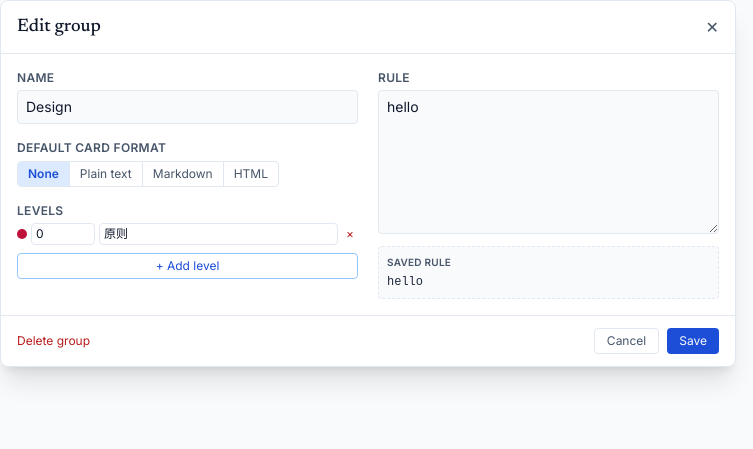
Scenario: GroupEditDialog › preview reflects the format choice
Check: the text with test id "rule-preview" reads "hello", box [387,275,423,289]
Click the button with test id "fmt-markdown" at (183, 174), box [143,162,224,186]
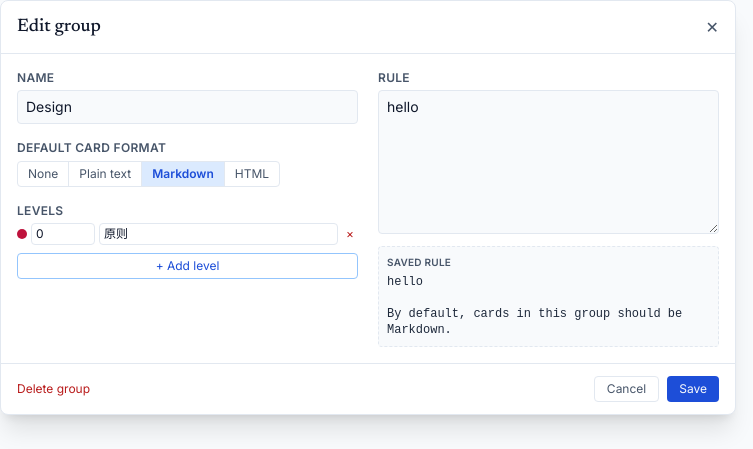
Check: the text with test id "rule-preview" shows "By default, cards in this group should be Markdown.", box [387,275,690,337]
